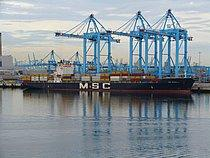Ship: (16, 59, 198, 100)
